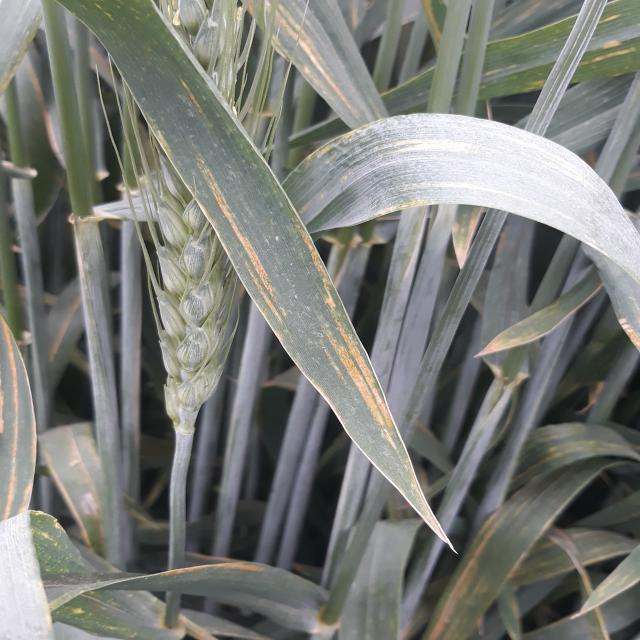yellow_rust: (10, 16, 620, 630)
